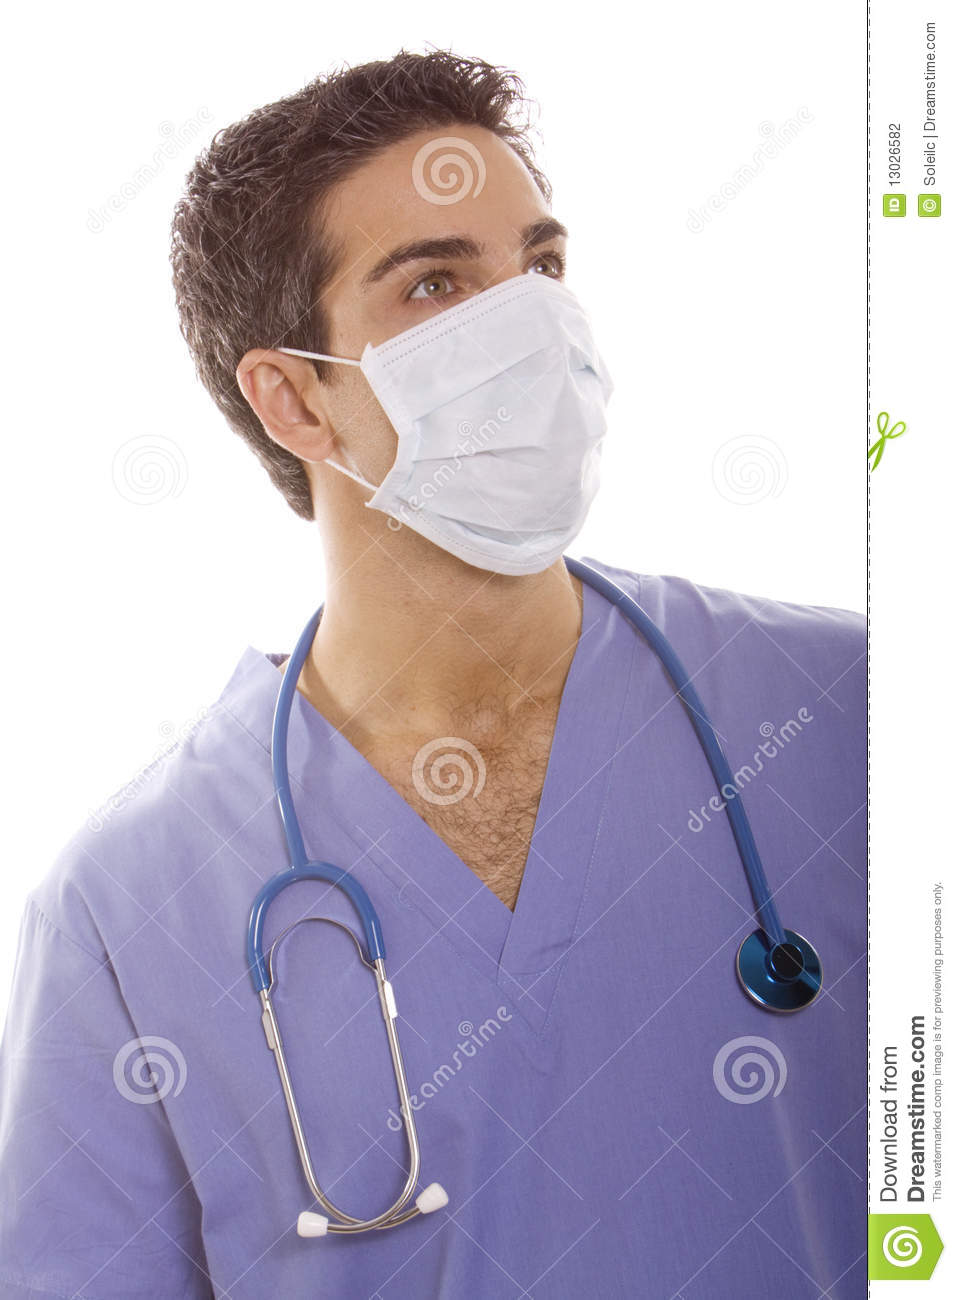mask: (350, 283, 652, 549)
